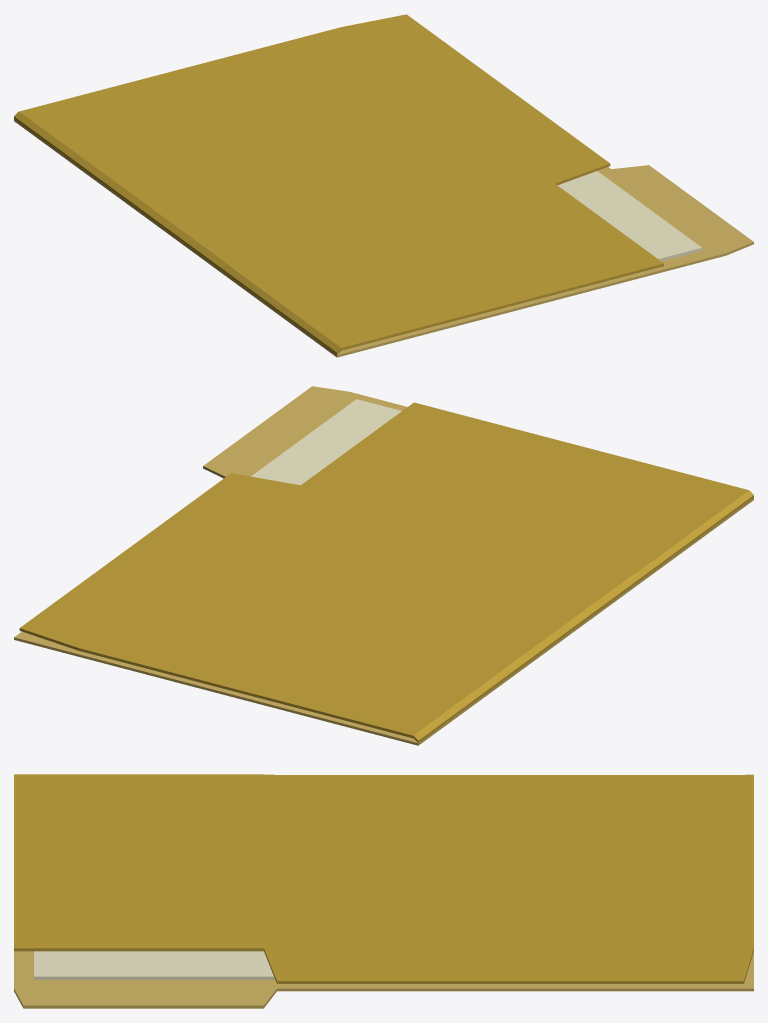
File: manillafolder_modelingfbx.fbx
3 renders of one model, top to bottom at view 1: azimuth 30°, elevation 25°; view 2: azimuth 150°, elevation 25°; view 3: azimuth 270°, elevation 25°, orthographic. The views are drawn at different scales.
Parts seen in each view (by area): view 1: manillafolder_modelingfbx; view 2: manillafolder_modelingfbx; view 3: manillafolder_modelingfbx.
Part boxes in pixels (x1=…): manillafolder_modelingfbx: x1=14, y1=14, x2=753, y2=357; manillafolder_modelingfbx: x1=14, y1=386, x2=753, y2=745; manillafolder_modelingfbx: x1=14, y1=774, x2=753, y2=1008.
Size of the model in its own units: 231 by 8.08 by 307.
